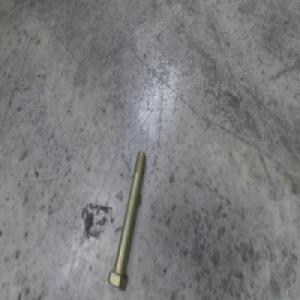Bolt: (107, 149, 145, 290)
